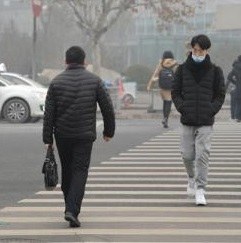person: (40, 45, 118, 229), (169, 34, 227, 207), (145, 47, 183, 131), (226, 60, 235, 121), (235, 55, 241, 126)
